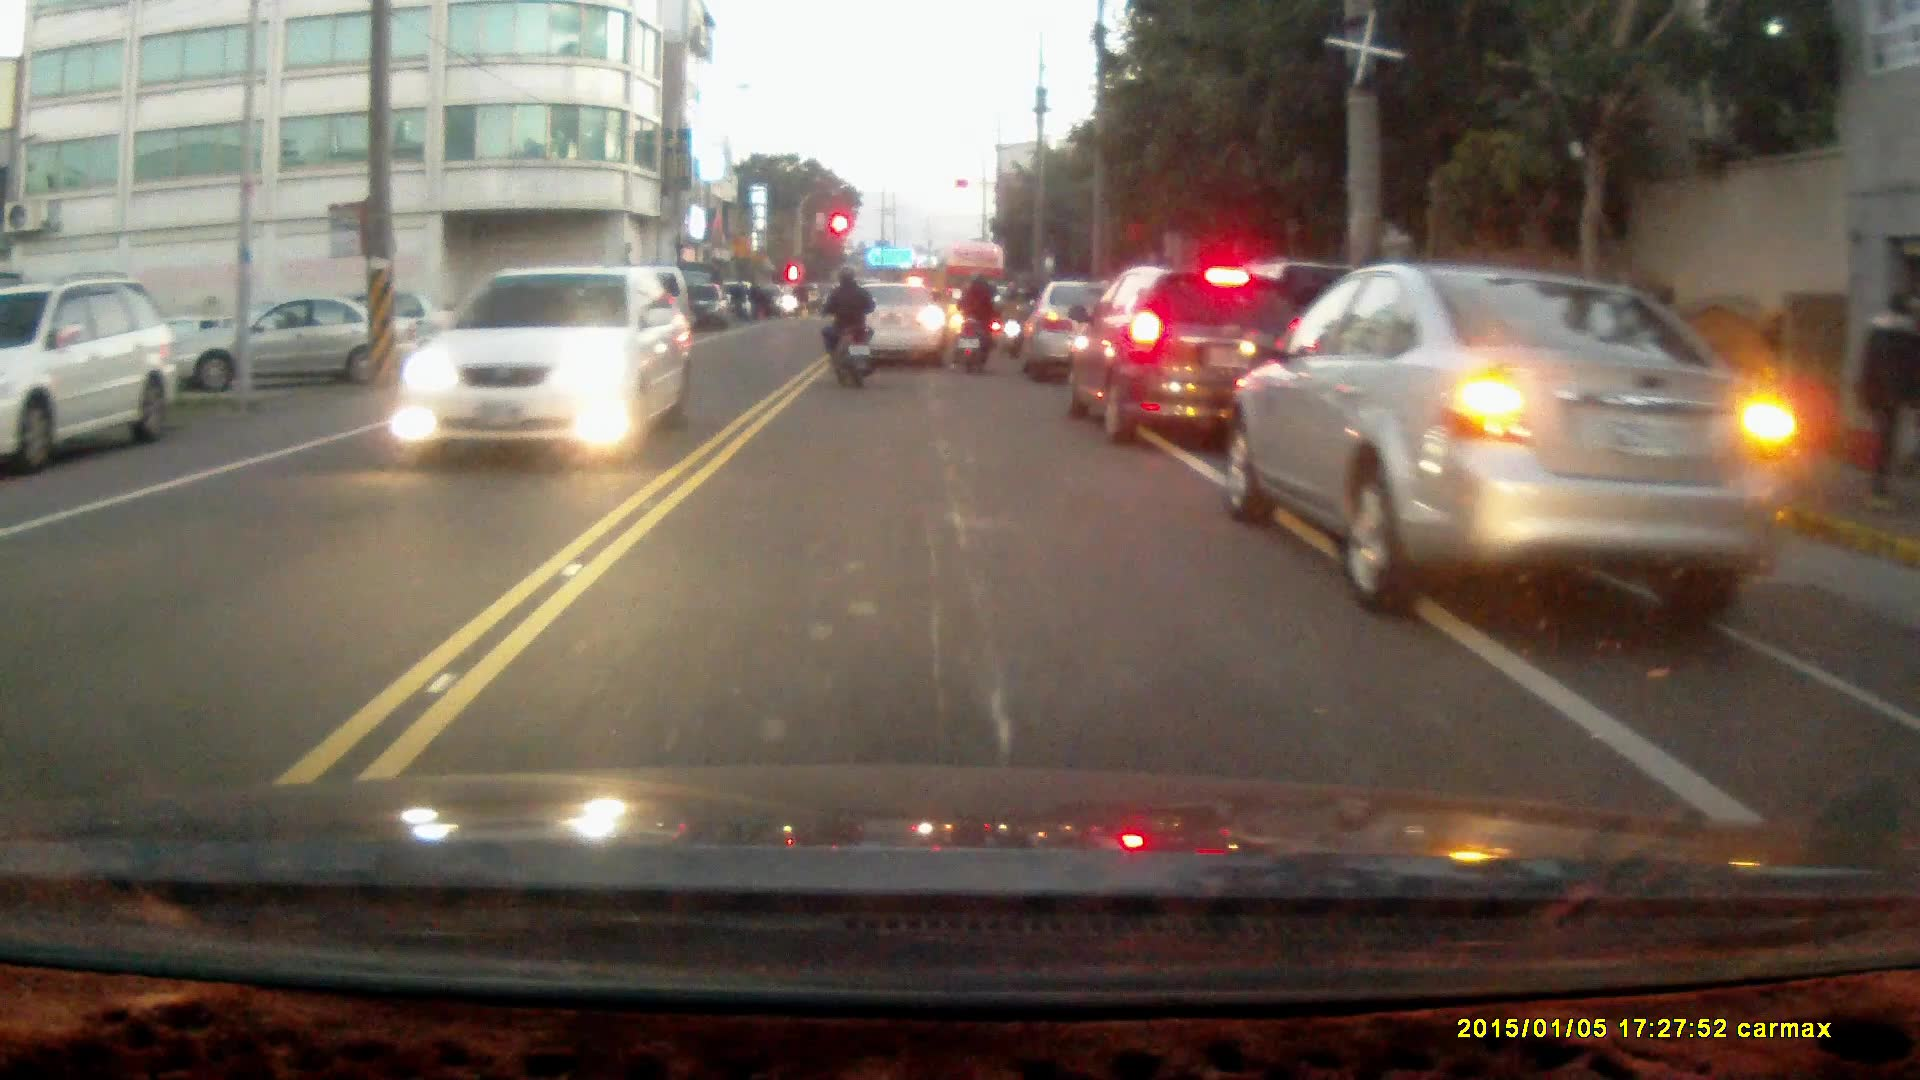pedestrian: (1854, 287, 1915, 517)
rider: (819, 267, 876, 390), (951, 271, 1003, 374)
vehicle: (1225, 262, 1802, 621), (391, 267, 687, 465), (1065, 269, 1316, 453), (1, 276, 184, 468), (175, 296, 422, 394), (1018, 277, 1145, 392), (835, 286, 947, 375)
